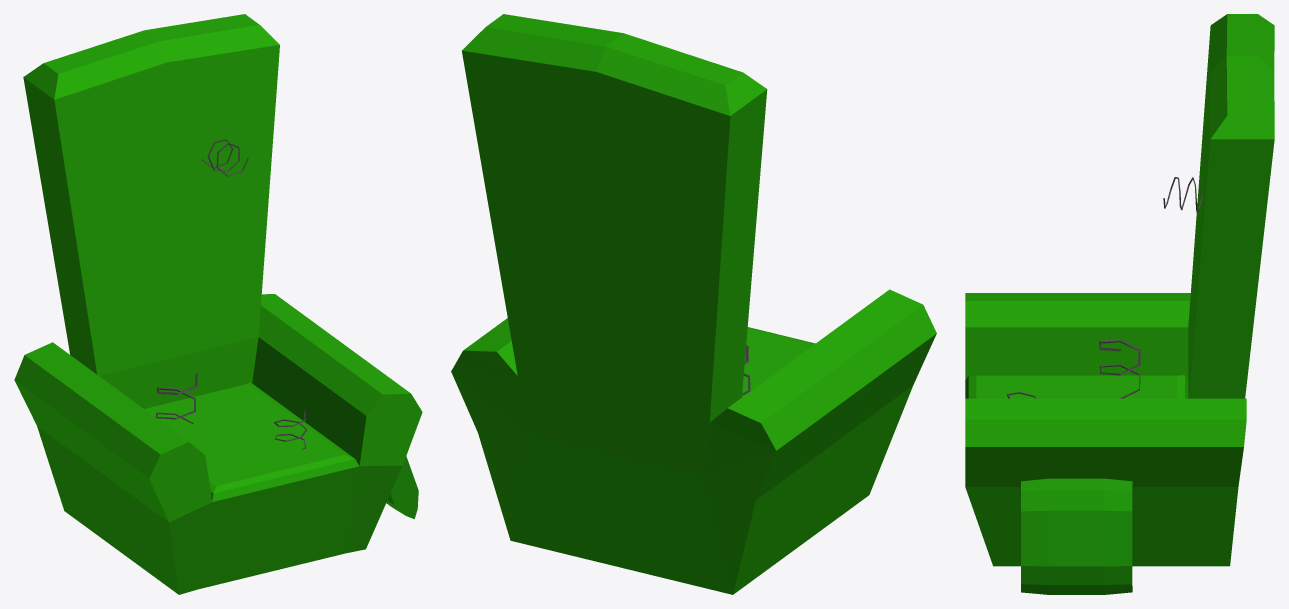
The model's file is Armchair.fbx.
3 renders of one model, left to right at view 1: azimuth 30°, elevation 25°; view 2: azimuth 150°, elevation 25°; view 3: azimuth 270°, elevation 25°, orthographic. The views are drawn at different scales.
Visible parts, largest first — view 1: Armchair; view 2: Armchair; view 3: Armchair.
Part boxes in pixels (x1,y1,x2,y2): Armchair: [14, 14, 422, 594]; Armchair: [451, 14, 936, 594]; Armchair: [965, 14, 1274, 594].
Size of the model in its own units: 63.71 by 91.62 by 55.5.
